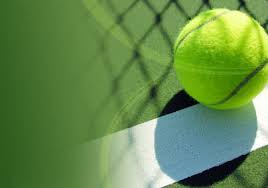tennis_ball: (174, 7, 268, 111)
